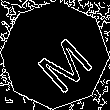M_NW: (21, 21, 89, 89)
